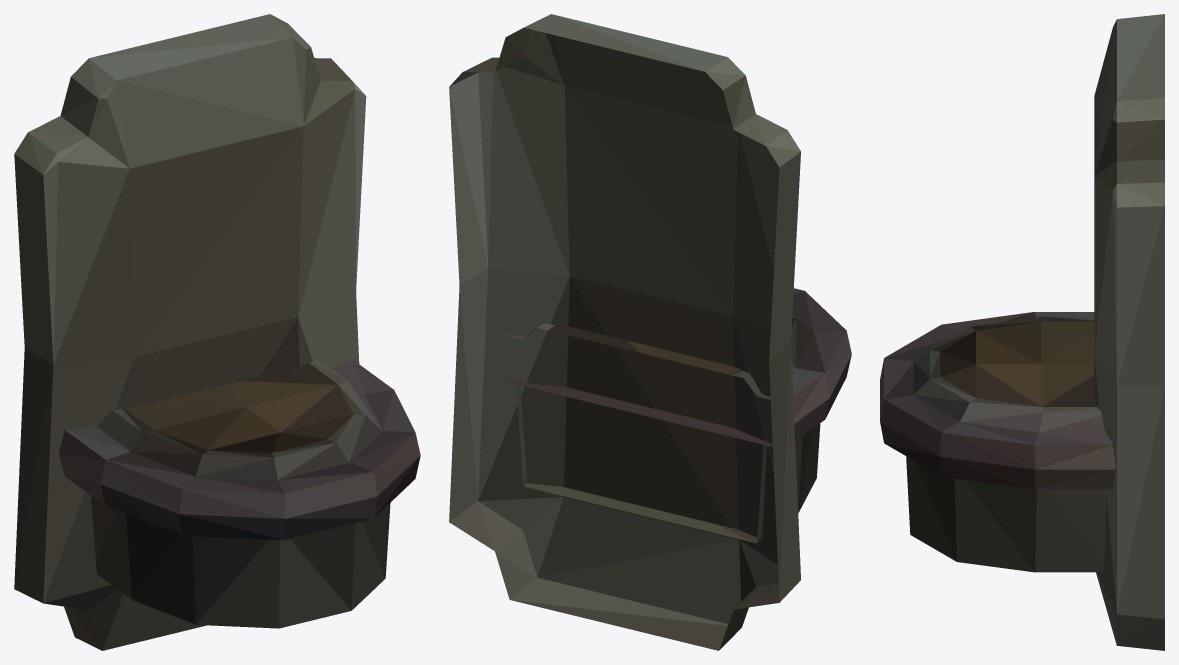
The model's file is prop_lighting_walltorch_1.fbx.
3 renders of one model, left to right at view 1: azimuth 30°, elevation 25°; view 2: azimuth 150°, elevation 25°; view 3: azimuth 270°, elevation 25°, orthographic. The views are drawn at different scales.
Visible parts, largest first — view 1: prop_lighting_walltorch_1; view 2: prop_lighting_walltorch_1; view 3: prop_lighting_walltorch_1.
Boxes of the visible parts, <box> form: prop_lighting_walltorch_1: <box>14,14,420,650</box>; prop_lighting_walltorch_1: <box>449,14,851,650</box>; prop_lighting_walltorch_1: <box>880,14,1164,650</box>.
Bounding box in the file's own units: 0.8469 × 1.41 × 0.666.
